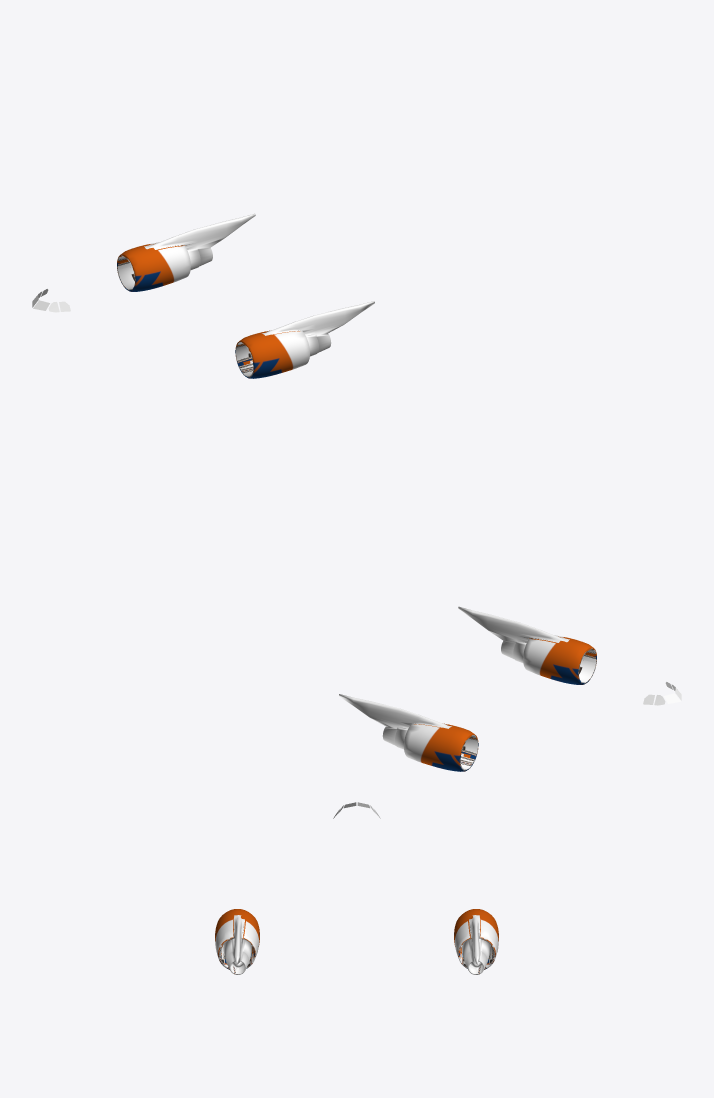
The picture shows the model from 3 angles, top to bottom: view 1: azimuth 30°, elevation 25°; view 2: azimuth 150°, elevation 25°; view 3: azimuth 270°, elevation 25°; orthographic projection.
Parts seen in each view (by area): view 1: part3_HF_png; view 2: part3_HF_png; view 3: part3_HF_png.
Part boxes in pixels (left/top/right/bottom): part3_HF_png: left=117, top=213, right=374, bottom=378; part3_HF_png: left=339, top=606, right=596, bottom=771; part3_HF_png: left=215, top=909, right=498, bottom=974.
Size of the model in its own units: 46.69 by 16.19 by 44.02.
Materials: 2 (1 with a texture image).
